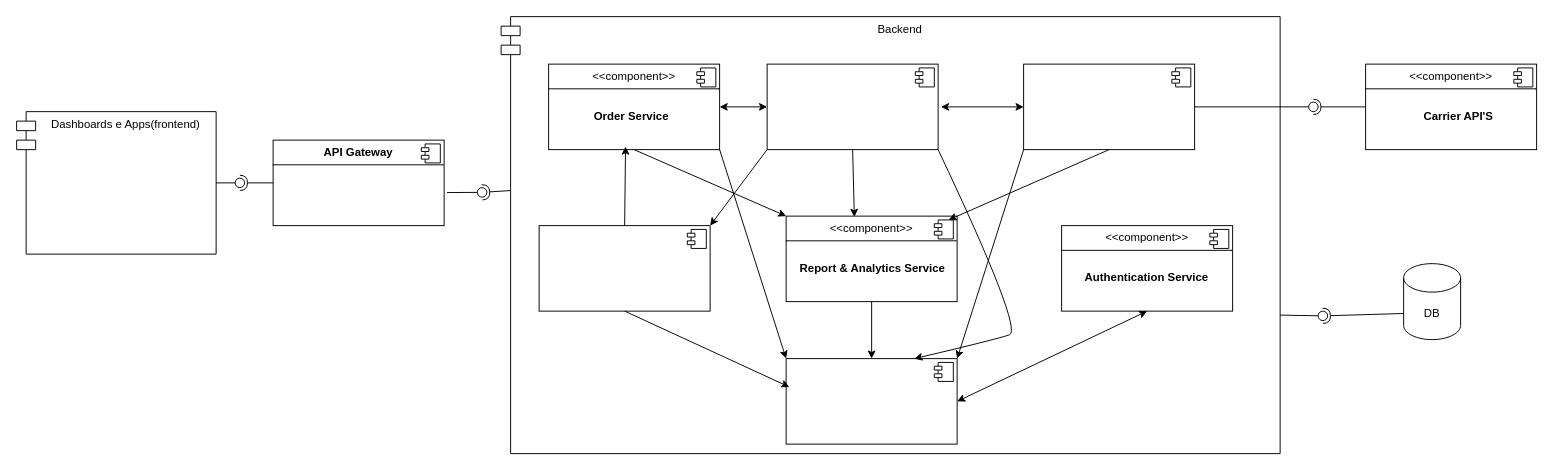
Some shapes in this 1553 by 470 pixel diagram are drawn without their labels. The shapes that lost their labels are listed below. From the top down, each one's centre as x and y in pixels, then its label:
pixel 852 106: <<component>> Tracking Service
pixel 1109 106: <<component>> Carrier Service
pixel 624 268: <<component>> Support & Ticket Service
pixel 871 401: <<component>> Notification Service
